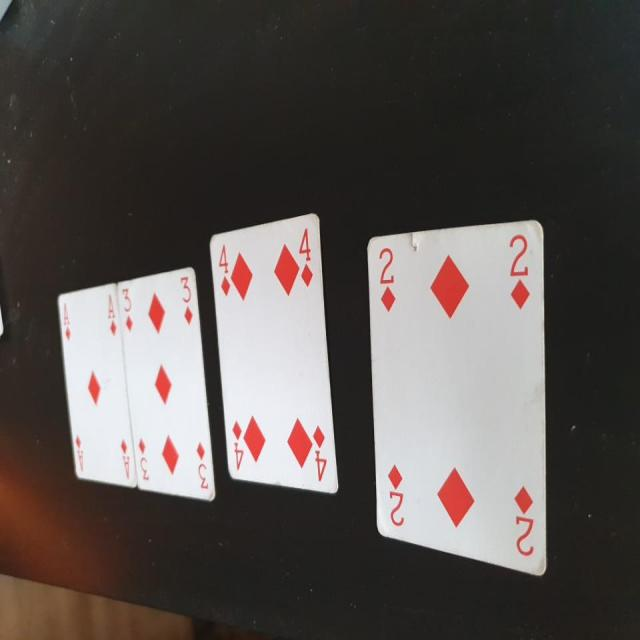2 Diamonds: (360, 216, 557, 578)
3 Diamonds: (114, 261, 217, 506)
4 Diamonds: (206, 212, 343, 499)
A Diamonds: (56, 273, 137, 494)
